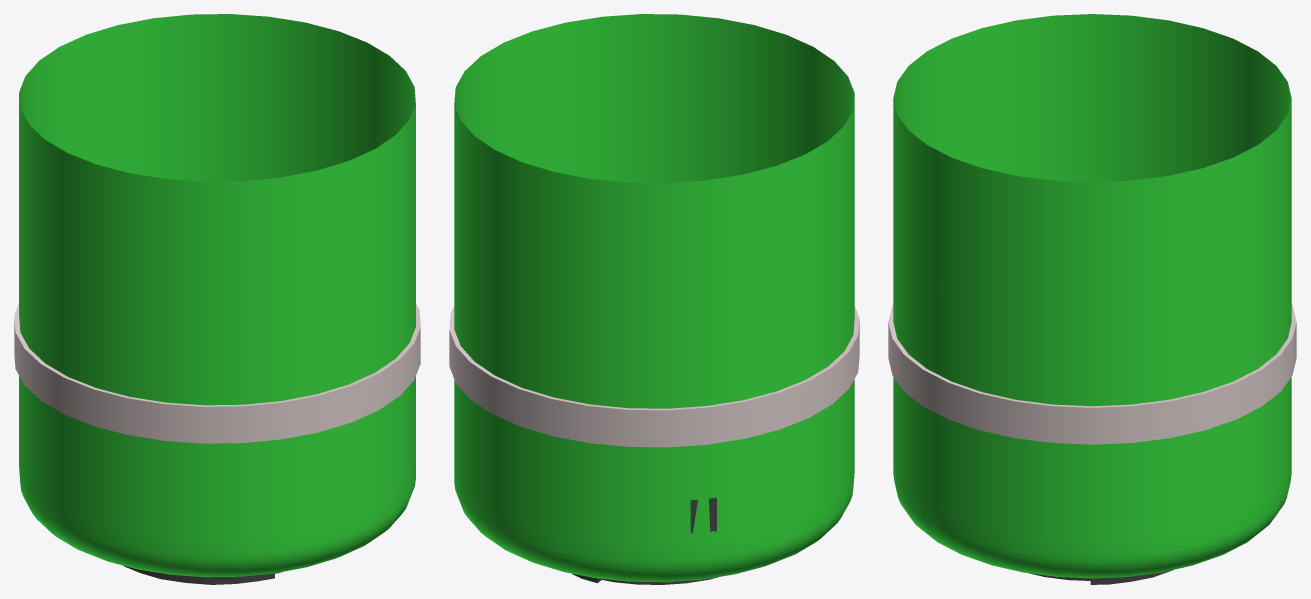
File: Pipe.fbx
3 views of the same model, side by side, from view 1: azimuth 30°, elevation 25°; view 2: azimuth 150°, elevation 25°; view 3: azimuth 270°, elevation 25° (orthographic).
Visible parts, largest first — view 1: Cylinder, Cylinder.002, Cube.005; view 2: Cylinder, Cylinder.002; view 3: Cylinder, Cylinder.002.
Boxes of the visible parts, <box> form: Cylinder: <box>19,14,415,577</box>; Cylinder.002: <box>14,303,420,443</box>; Cube.005: <box>123,565,274,584</box>; Cylinder: <box>454,14,854,582</box>; Cylinder.002: <box>449,306,859,447</box>; Cylinder: <box>893,14,1291,578</box>; Cylinder.002: <box>888,304,1296,444</box>.
Size of the model in its own units: 205 by 244 by 205.
